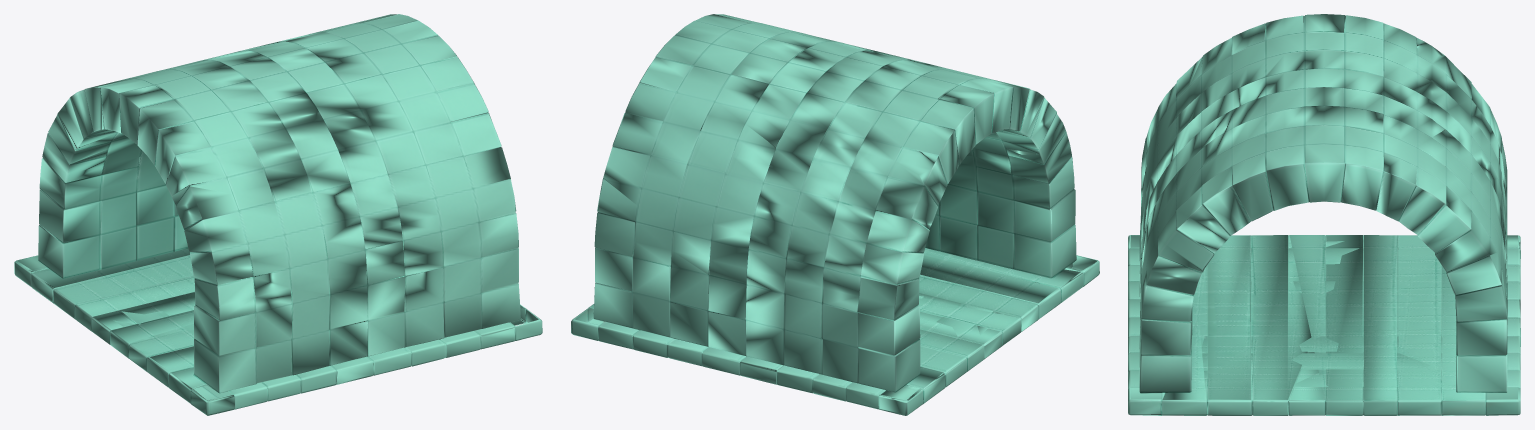
File: tunnel-arch.fbx
3 views of the same model, side by side, from view 1: azimuth 30°, elevation 25°; view 2: azimuth 150°, elevation 25°; view 3: azimuth 270°, elevation 25° (orthographic).
Parts seen in each view (by area): view 1: Mesh_0; view 2: Mesh_0; view 3: Mesh_0.
Part boxes in pixels (left/top/right/bottom): Mesh_0: left=14, top=14, right=542, bottom=415; Mesh_0: left=571, top=14, right=1099, bottom=415; Mesh_0: left=1128, top=14, right=1520, bottom=415.
Bounding box in the file's own units: 94.97 × 65.53 × 94.82.
Materials: 1 (1 with a texture image).
